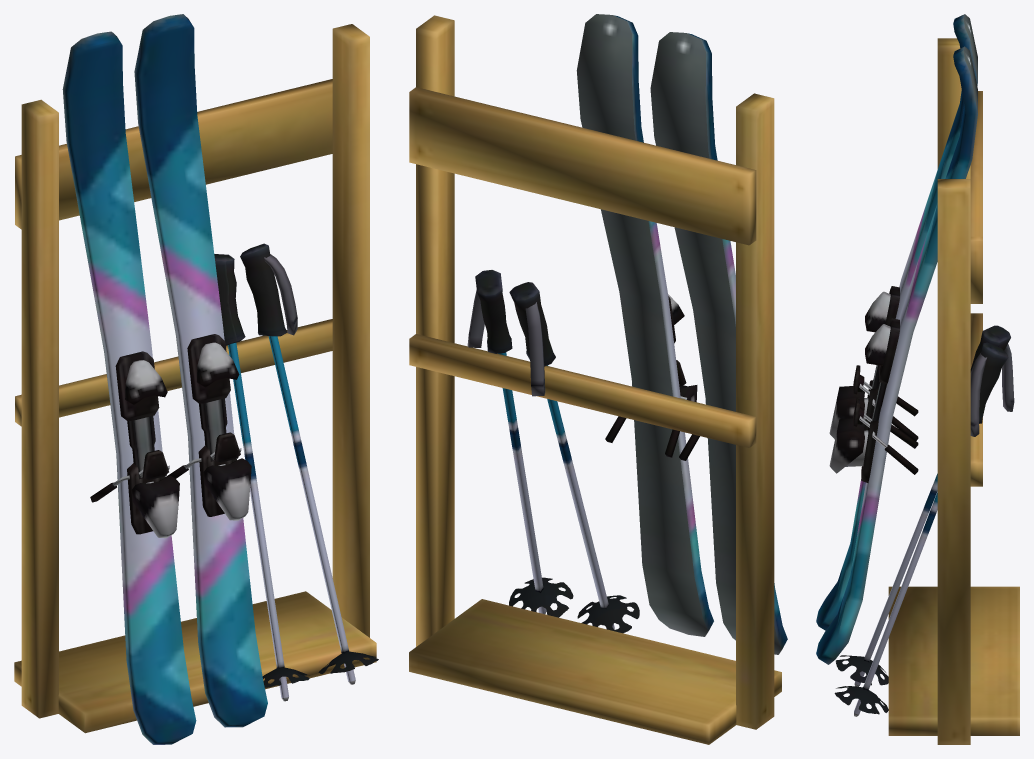
The picture shows the model from 3 angles, left to right: view 1: azimuth 30°, elevation 25°; view 2: azimuth 150°, elevation 25°; view 3: azimuth 270°, elevation 25°; orthographic projection. The views are drawn at different scales.
Size of the model in its own units: 8.46 by 16.07 by 4.87.
1 material, 1 textured.
